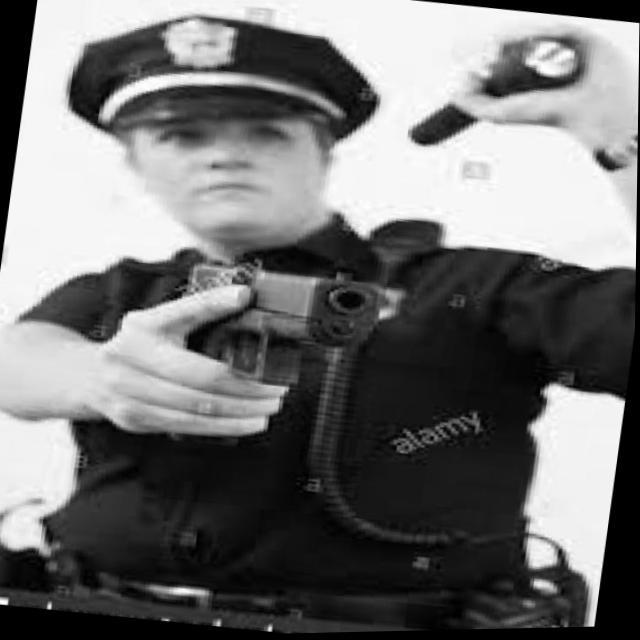weapon: (166, 257, 386, 403)
